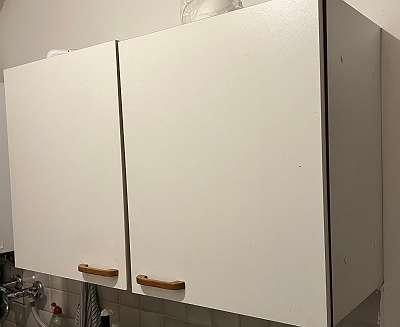cabinet_door: (124, 23, 330, 312), (9, 58, 126, 279)
handle: (133, 270, 187, 294), (76, 259, 122, 280)
